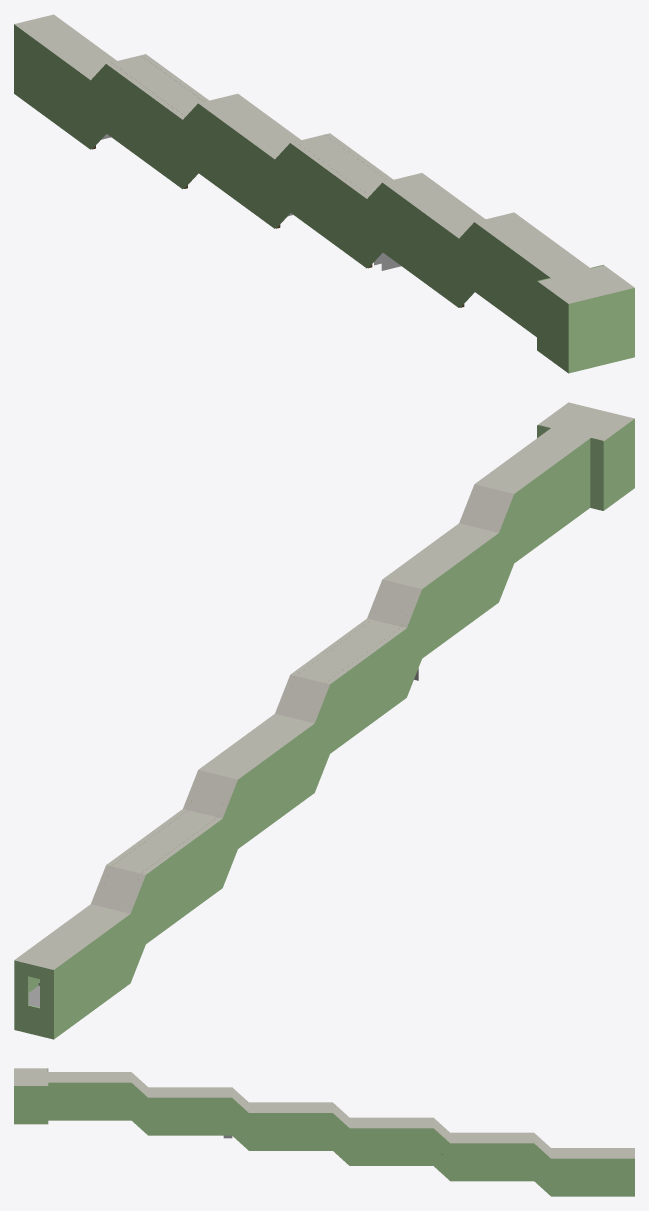
The model's file is LVL5.fbx.
3 views of the same model, one above another, from view 1: azimuth 30°, elevation 25°; view 2: azimuth 150°, elevation 25°; view 3: azimuth 270°, elevation 25° (orthographic). The views are drawn at different scales.
Parts seen in each view (by area): view 1: group109_pasted__group24_pasted__pasted__group21_pasted__pas; view 2: group109_pasted__group24_pasted__pasted__group21_pasted__pas; view 3: group109_pasted__group24_pasted__pasted__group21_pasted__pas.
Boxes of the visible parts, bbox=[...] form: group109_pasted__group24_pasted__pasted__group21_pasted__pas: bbox=[14, 14, 634, 373]; group109_pasted__group24_pasted__pasted__group21_pasted__pas: bbox=[14, 402, 634, 1039]; group109_pasted__group24_pasted__pasted__group21_pasted__pas: bbox=[14, 1068, 634, 1196].
Size of the model in its own units: 5 by 15 by 74.
